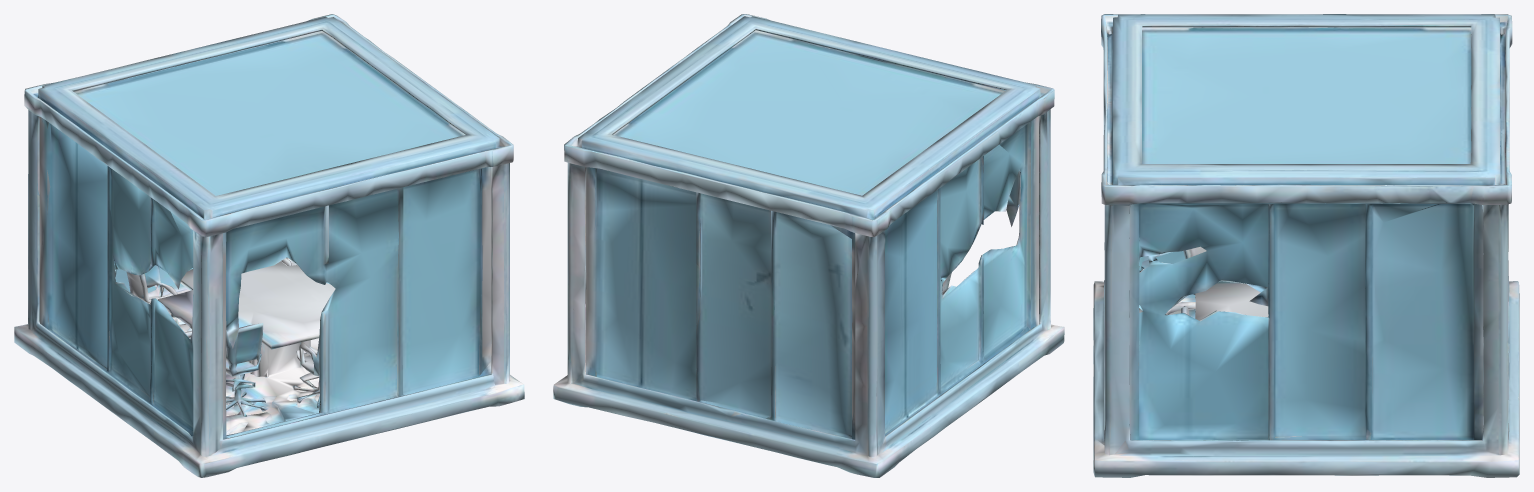
Rendered from special1.glb.
3 views of the same model, side by side, from view 1: azimuth 30°, elevation 25°; view 2: azimuth 150°, elevation 25°; view 3: azimuth 270°, elevation 25° (orthographic). The views are drawn at different scales.
Visible parts, largest first — view 1: Mesh_0; view 2: Mesh_0; view 3: Mesh_0.
Part boxes in pixels (x1,y1,x2,y2): Mesh_0: (14,14,524,477); Mesh_0: (553,14,1064,477); Mesh_0: (1093,14,1519,477).
Size of the model in its own units: 1.91 by 1.46 by 1.91.
1 material, 1 textured.
